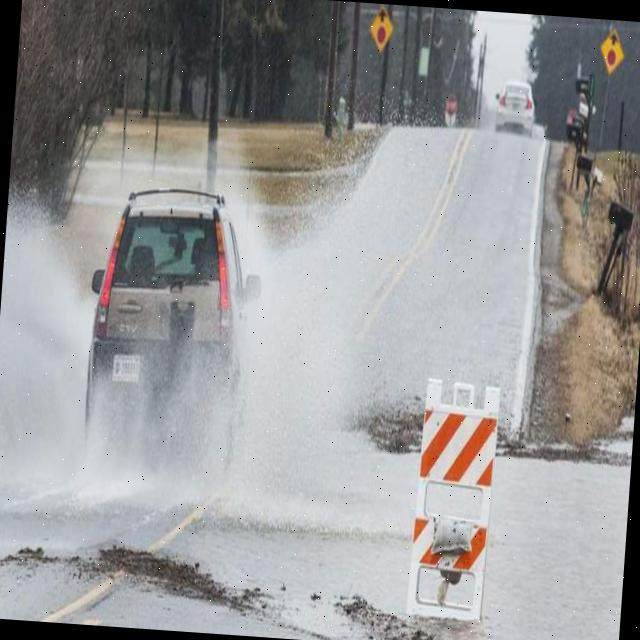car: (81, 188, 266, 466), (492, 77, 536, 135)
